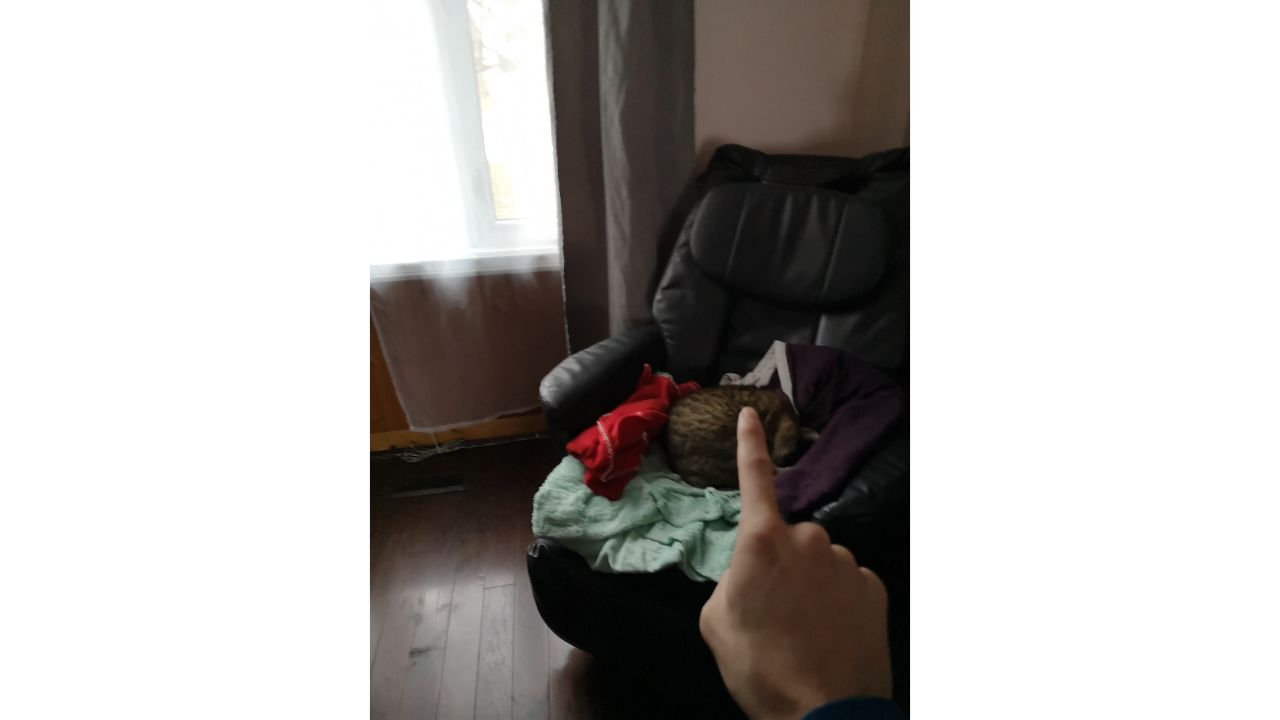finger: (687, 402, 897, 707)
